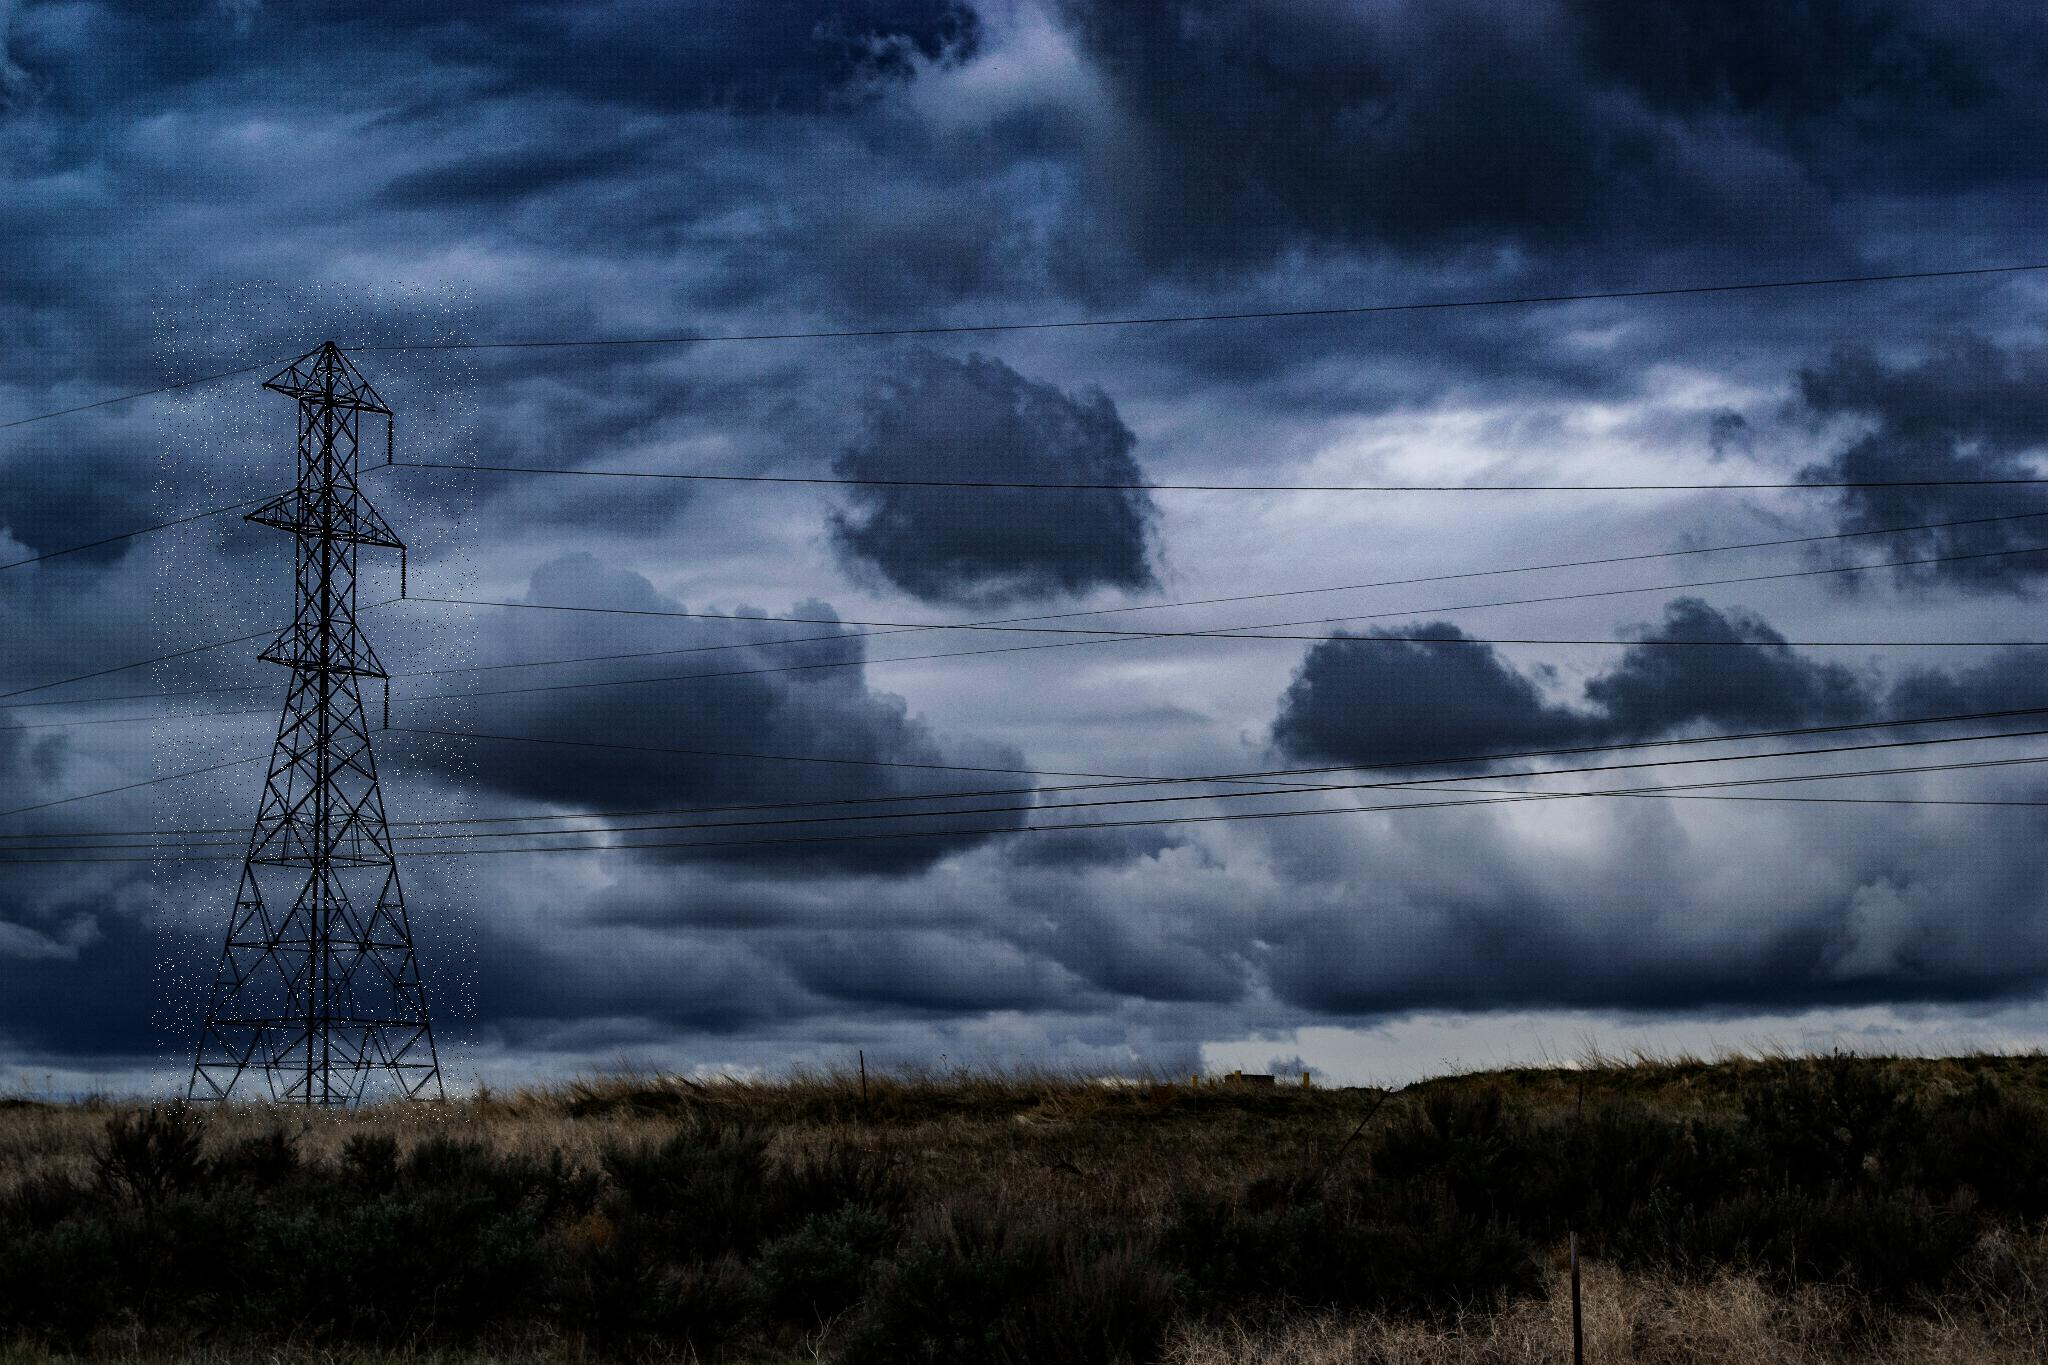cable tower: (152, 280, 478, 1124)
